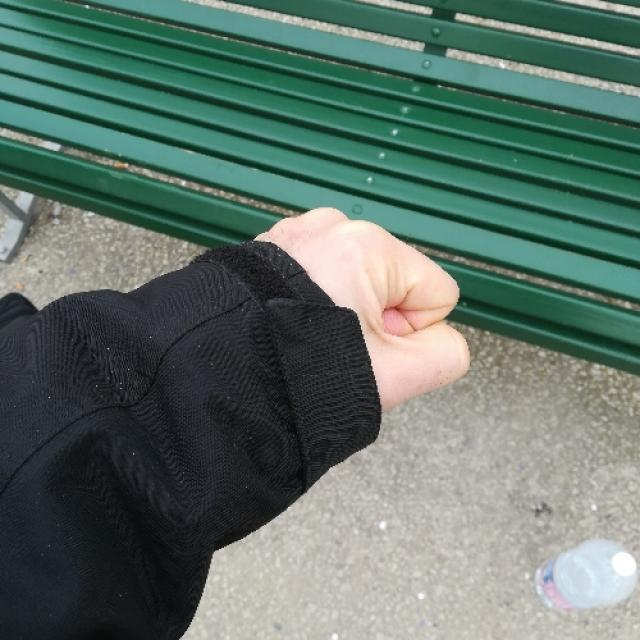rock: (272, 206, 468, 394)
